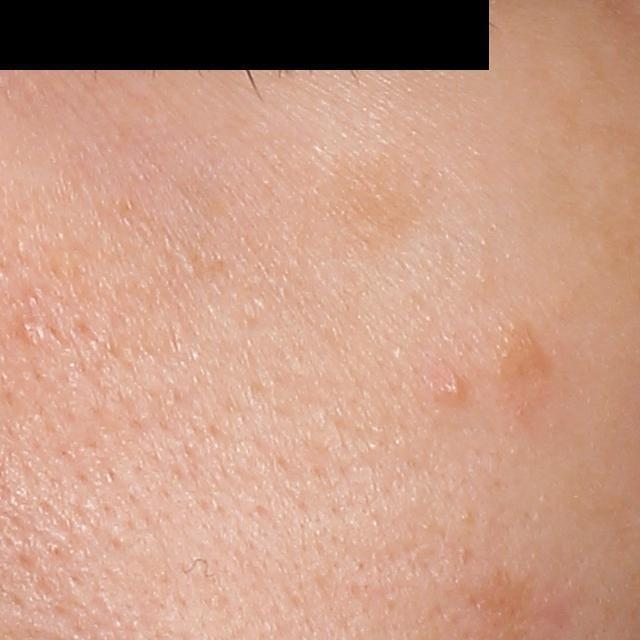comedo: (440, 377, 468, 402)
melasma: (352, 150, 432, 239), (503, 328, 557, 410)
